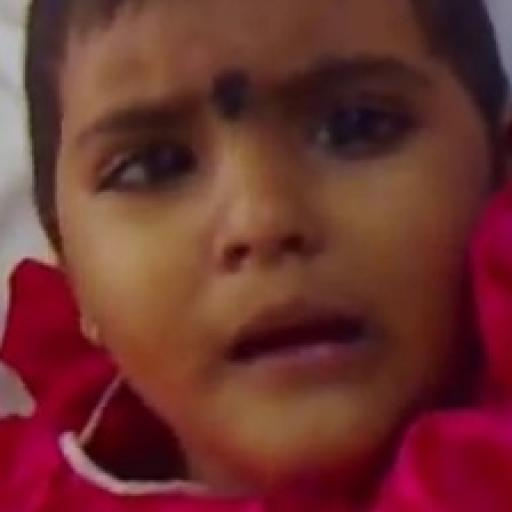Autism: (30, 9, 512, 484)
